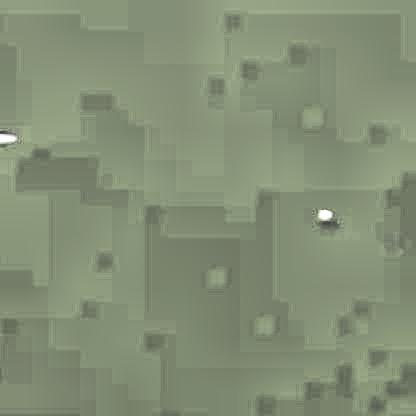golfball: (318, 207, 330, 221)
